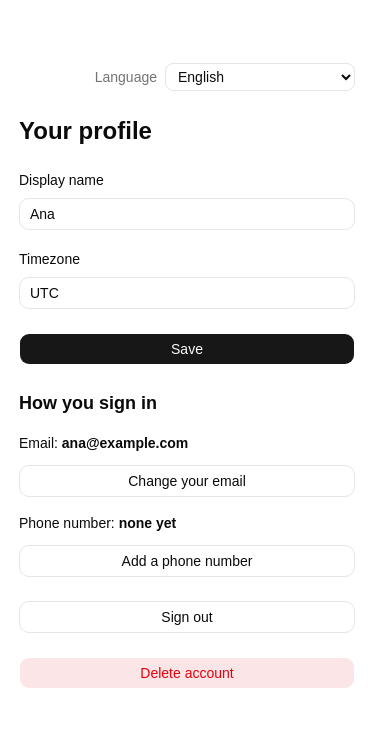
the contact form › asks for a fresh sign-in when the last one is too old
Step 1. Click the button "Change your email" → (187, 481), box [19,465,355,497]
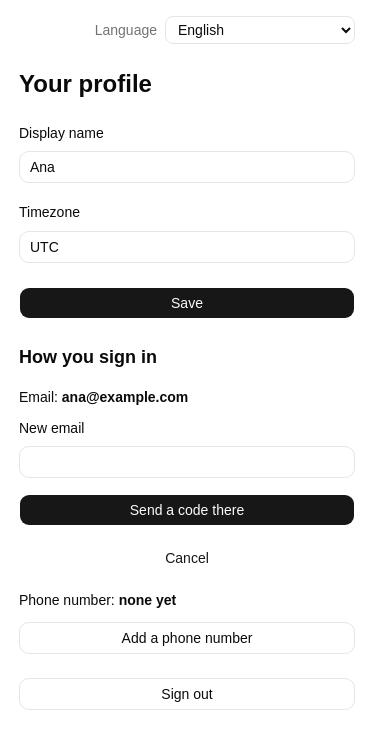
Step 2. Type "new@example.com" into the field labelled "New email" → (187, 462), box [19,446,355,478]
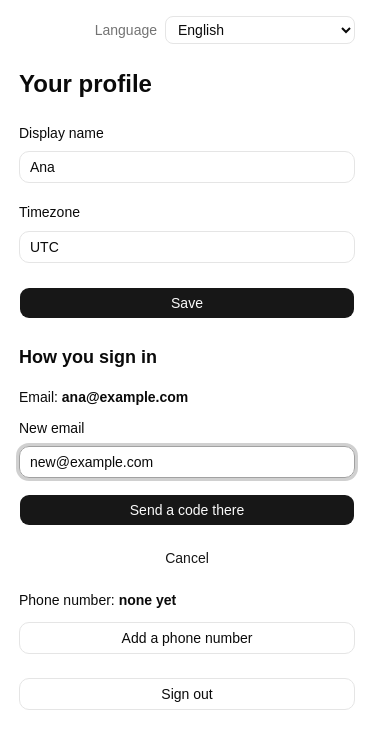
Step 3. Click the button "Send a code there" → (187, 510), box [19,494,355,526]
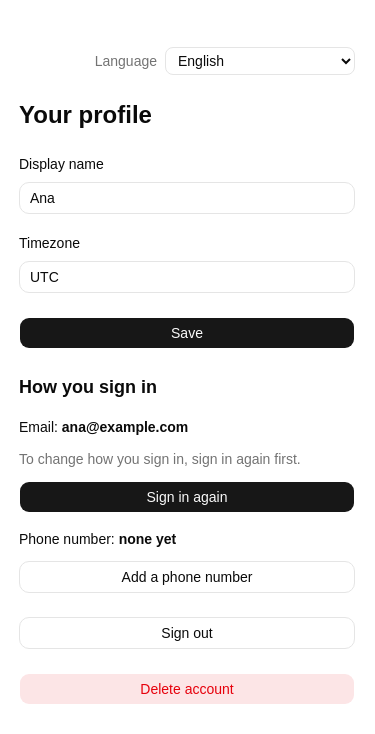
Result: the button "Sign in again" is shown at [19,481,355,513]
